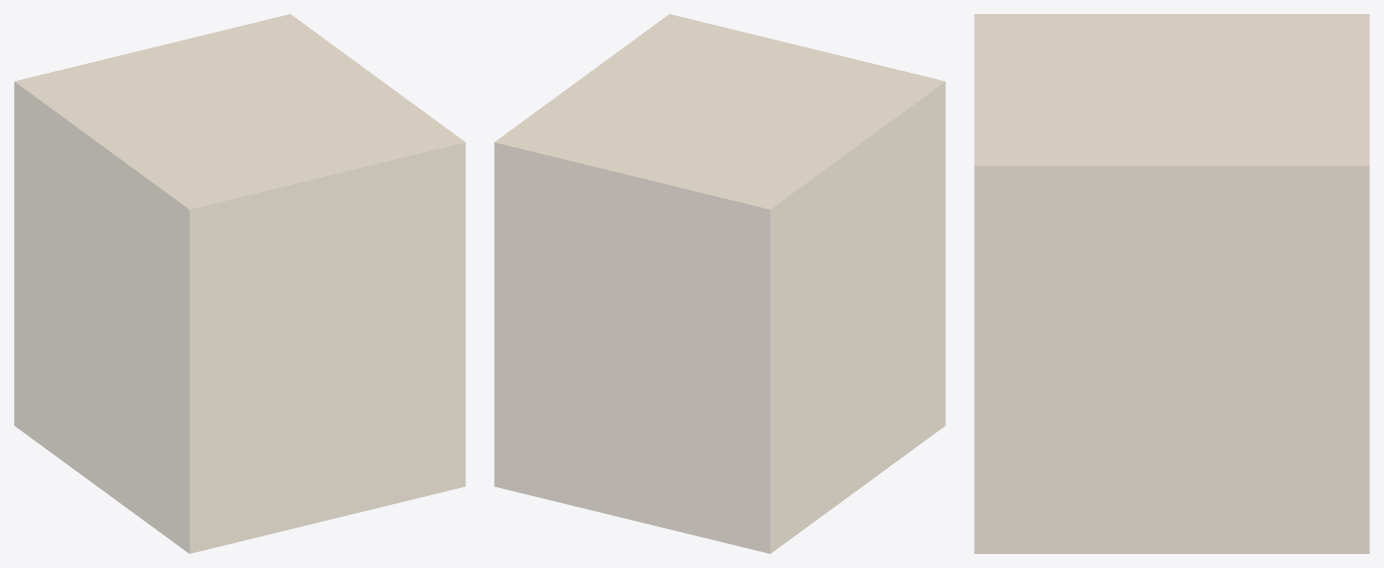
3 views of the same model, side by side, from view 1: azimuth 30°, elevation 25°; view 2: azimuth 150°, elevation 25°; view 3: azimuth 270°, elevation 25° (orthographic). The views are drawn at different scales.
Parts seen in each view (by area): view 1: Queen's Chamber; view 2: Queen's Chamber; view 3: Queen's Chamber.
Boxes of the visible parts, x1,y1,x2,y2 form: Queen's Chamber: [14, 14, 465, 553]; Queen's Chamber: [494, 14, 945, 553]; Queen's Chamber: [974, 14, 1369, 553].
Bounding box in the file's own units: 5.23 × 6.23 × 5.75.
